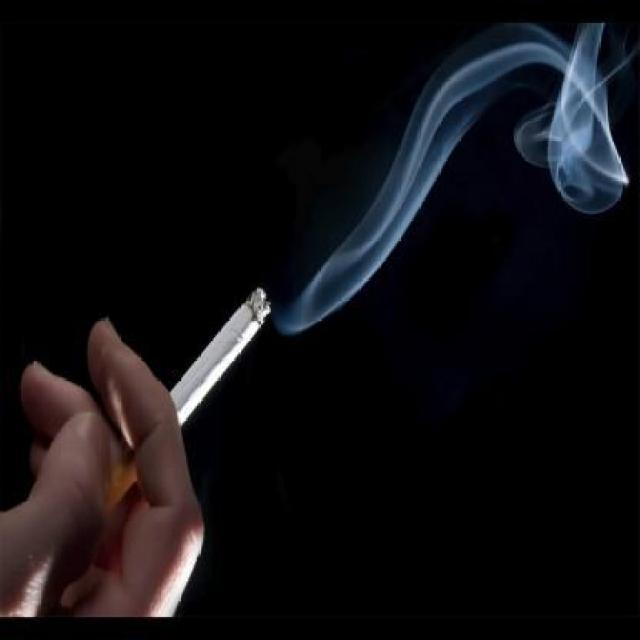cigarette: (74, 280, 275, 562)
